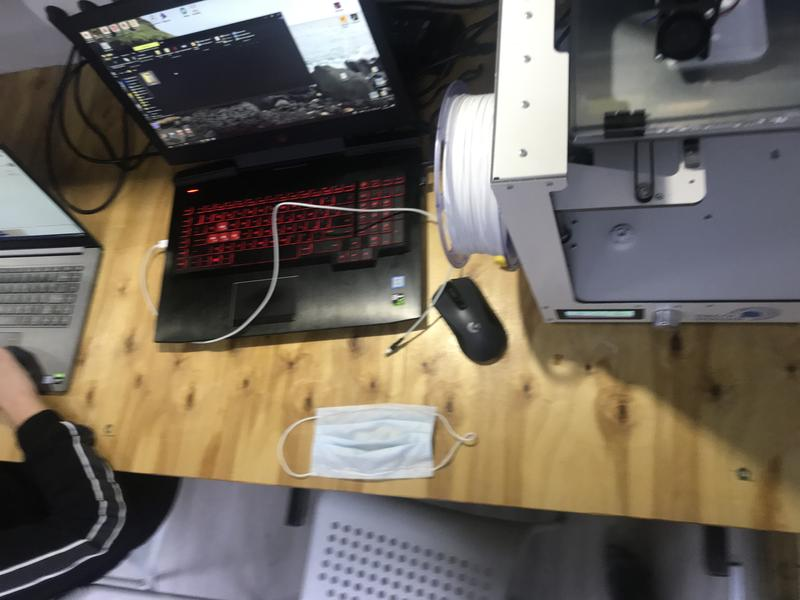medical_mask: (279, 406, 476, 478)
